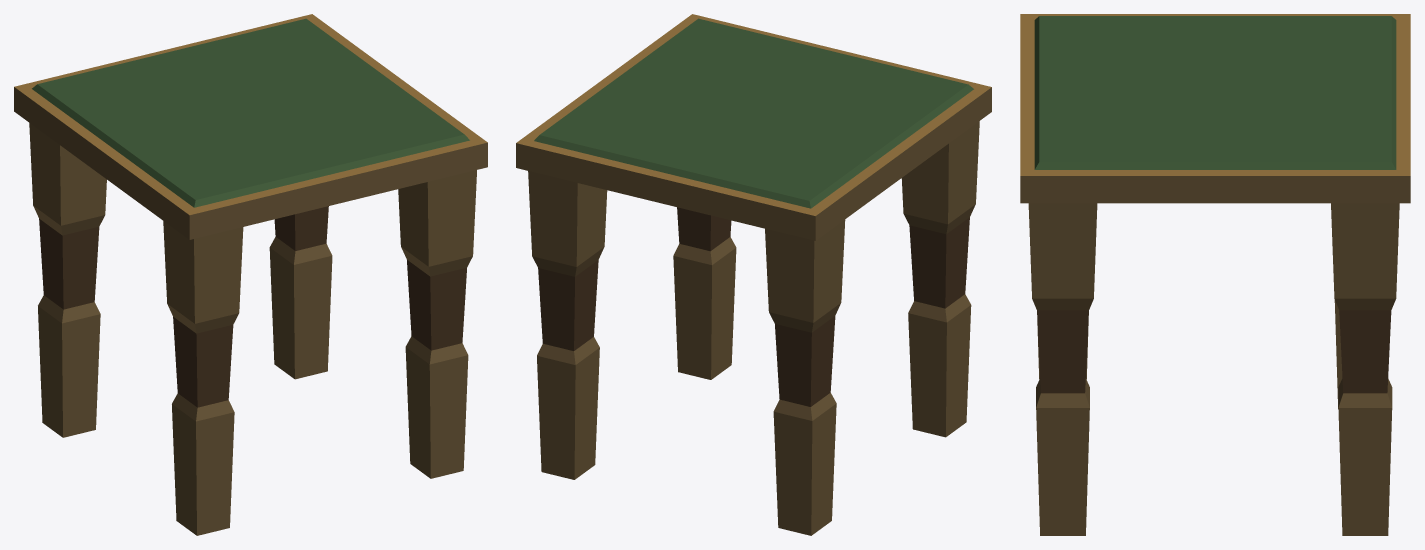
The model's file is chair4.fbx.
3 renders of one model, left to right at view 1: azimuth 30°, elevation 25°; view 2: azimuth 150°, elevation 25°; view 3: azimuth 270°, elevation 25°, orthographic. The views are drawn at different scales.
Parts seen in each view (by area): view 1: Object068; view 2: Object068; view 3: Object068.
Boxes of the visible parts, <box> form: Object068: <box>14,14,487,535</box>; Object068: <box>516,14,991,535</box>; Object068: <box>1020,14,1410,535</box>.
Size of the model in its own units: 20.02 by 21.58 by 20.41.
